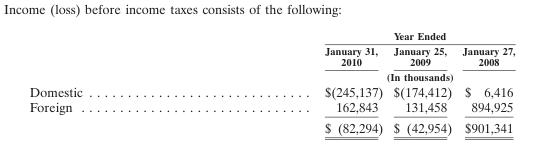table: (28, 29, 514, 135)
table column: (202, 29, 387, 135), (28, 29, 202, 135), (387, 29, 456, 135), (456, 29, 514, 135)
table column header: (28, 29, 514, 82)
table row: (28, 42, 514, 68), (28, 116, 514, 135), (28, 98, 514, 116), (28, 82, 514, 98), (28, 68, 514, 82), (28, 29, 514, 42)
table spanning cell: (202, 68, 514, 82), (202, 29, 514, 42)
